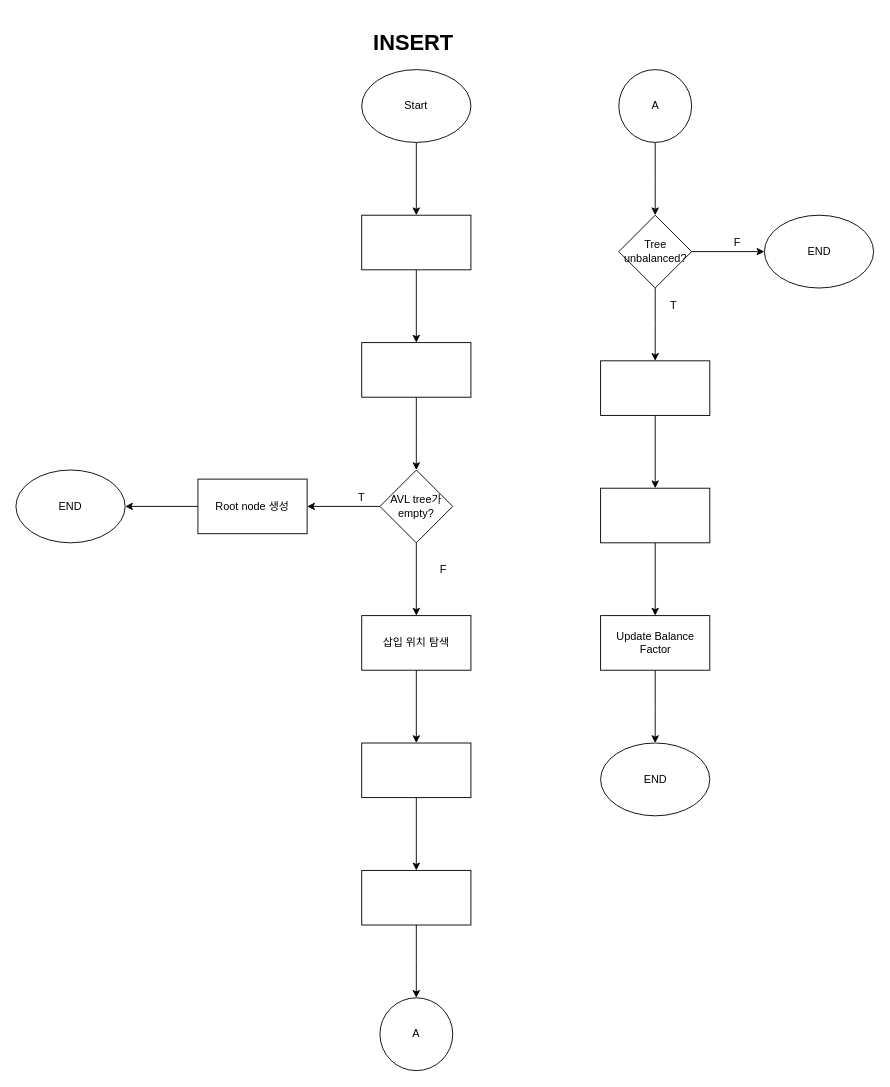
Image size: 890x1087. Some labels were removed from this diagram. The shapes that lost their labels are listed below. From the top down, each one's centre as x and y in pixels, then its label:
(416,242): Command.txt 읽기
(416,369): CityData 객체 생성 및 초기화
(655,387): Rotation Type 결정
(655,515): Rotate
(416,770): AVLNode 생성 및 삽입
(416,897): Balance Factor Update
